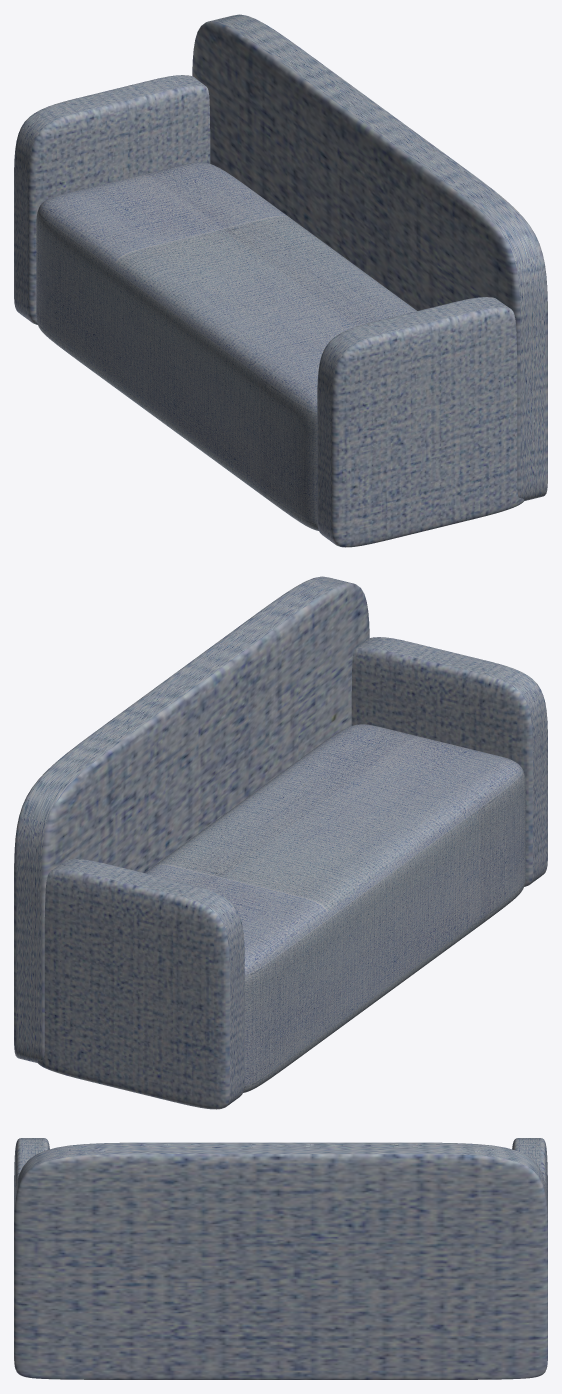
The model's file is sofa.fbx.
3 views of the same model, one above another, from view 1: azimuth 30°, elevation 25°; view 2: azimuth 150°, elevation 25°; view 3: azimuth 270°, elevation 25° (orthographic). The views are drawn at different scales.
Visible parts, largest first — view 1: Würfel_4, Würfel_2, Würfel_2_2, Würfel; view 2: Würfel_4, Würfel_2, Würfel, Würfel_2_2; view 3: Würfel_2, Würfel, Würfel_2_2.
Boxes of the visible parts, x1=… form: Würfel_4: x1=36, y1=162, x2=416, y2=530; Würfel_2: x1=192, y1=14, x2=547, y2=500; Würfel_2_2: x1=317, y1=297, x2=524, y2=547; Würfel: x1=14, y1=75, x2=210, y2=324; Würfel_4: x1=145, y1=724, x2=525, y2=1092; Würfel_2: x1=14, y1=576, x2=369, y2=1062; Würfel: x1=37, y1=859, x2=244, y2=1109; Würfel_2_2: x1=351, y1=637, x2=547, y2=886; Würfel_2: x1=14, y1=1142, x2=547, y2=1379; Würfel: x1=512, y1=1138, x2=547, y2=1207; Würfel_2_2: x1=14, y1=1138, x2=49, y2=1207.
Bounding box in the file's own units: 202 × 242 × 520.
2 materials, 2 textured.
